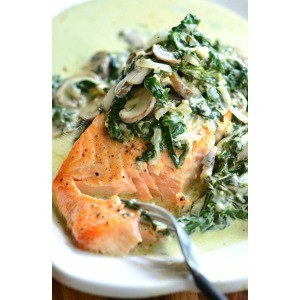salmon_brain food: (57, 124, 211, 248)
